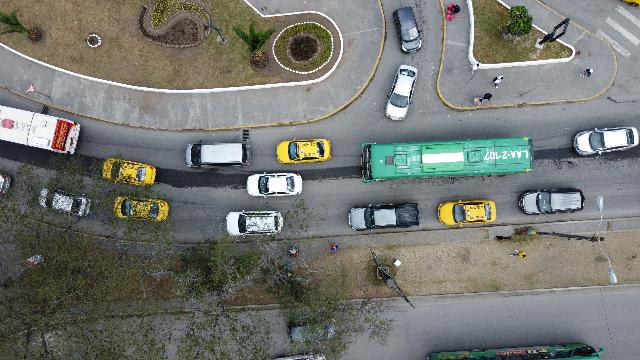Vehiculo: (348, 203, 419, 231), (573, 126, 639, 156), (186, 138, 250, 168), (384, 65, 418, 121), (519, 188, 585, 216), (36, 187, 92, 217), (225, 210, 283, 238), (438, 200, 497, 226), (102, 158, 156, 186), (276, 138, 332, 164), (247, 172, 303, 198), (113, 196, 169, 222), (392, 7, 422, 53), (287, 317, 335, 343), (0, 173, 12, 195)
